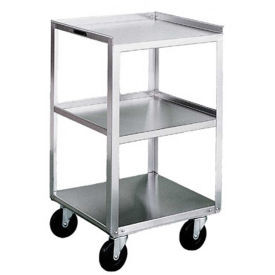Carts: (48, 9, 225, 275)
